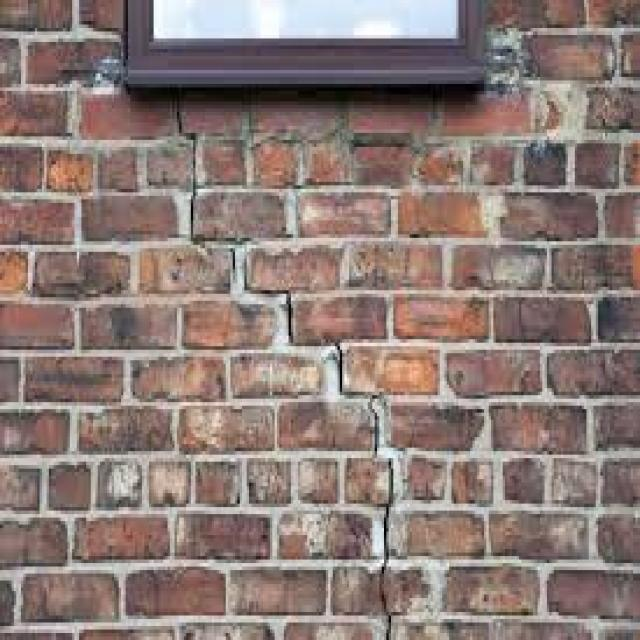Crack: (172, 98, 394, 636)
